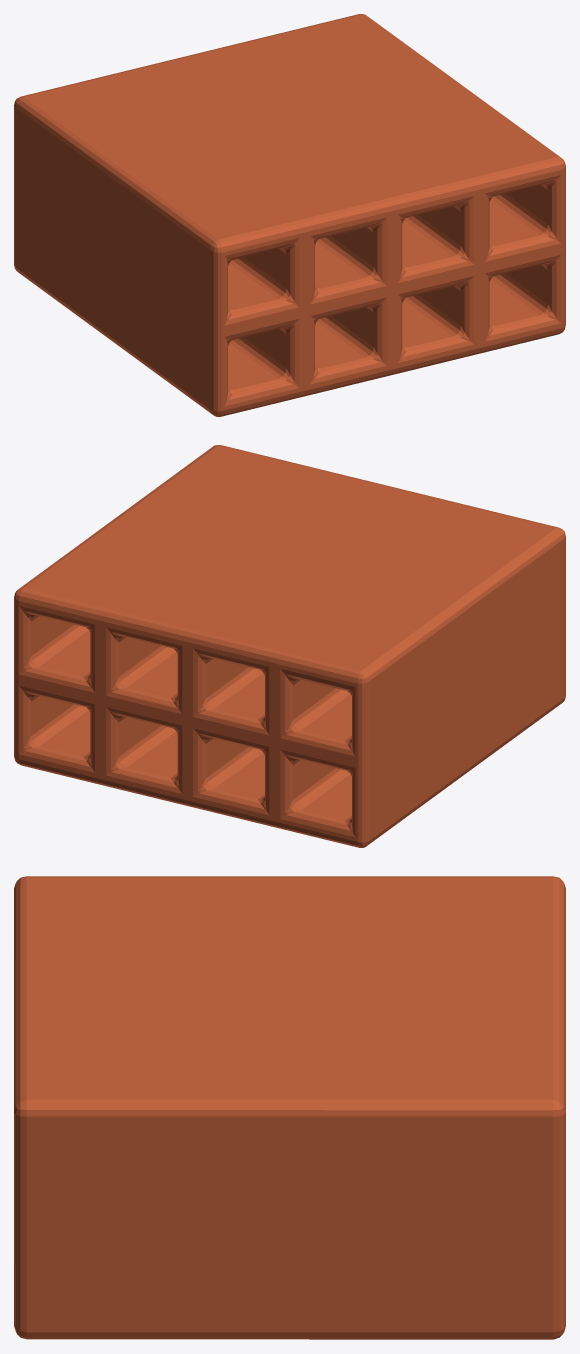
The model's file is material-tijolo.glb.
3 renders of one model, top to bottom at view 1: azimuth 30°, elevation 25°; view 2: azimuth 150°, elevation 25°; view 3: azimuth 270°, elevation 25°, orthographic. The views are drawn at different scales.
Parts seen in each view (by area): view 1: tijolo; view 2: tijolo; view 3: tijolo.
Boxes of the visible parts, box(x1,y1,x2,y2) form: tijolo: box(14, 14, 565, 416); tijolo: box(14, 445, 565, 847); tijolo: box(14, 876, 565, 1339).
Bounding box in the file's own units: 1.3 × 0.62 × 1.3.
